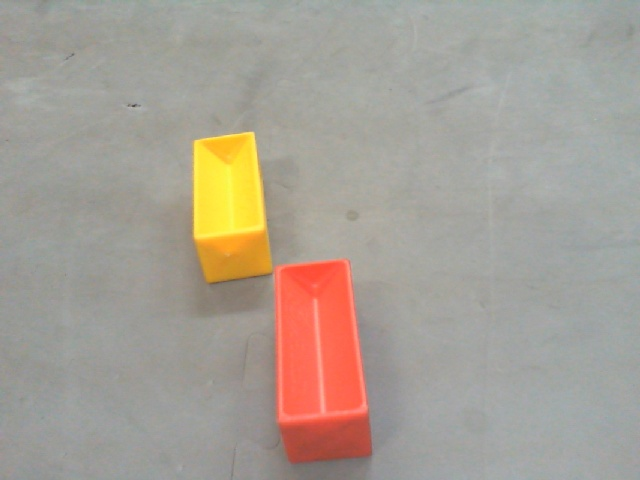RedSample: (274, 259, 377, 465)
YellowSample: (190, 129, 274, 287)
